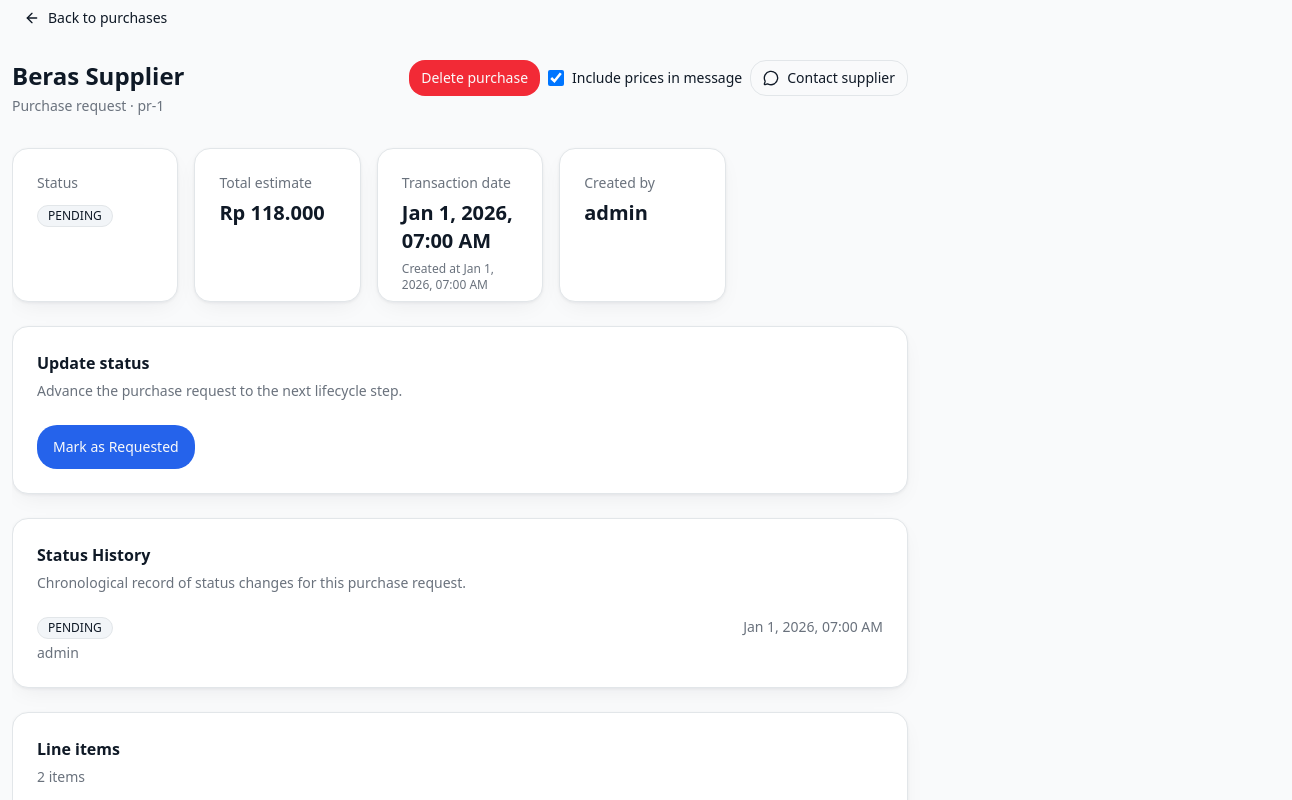
Test: AdminPurchaseDetailContent › shows API validation errors for invalid status transitions
Expected: the heading "Beras Supplier" is shown, [12,60,184,92]
What coordinates should you click on to do the following:
click the button "Mark as Requested"
I would click on:
 (116, 447)
Its box is [37,425,195,469].
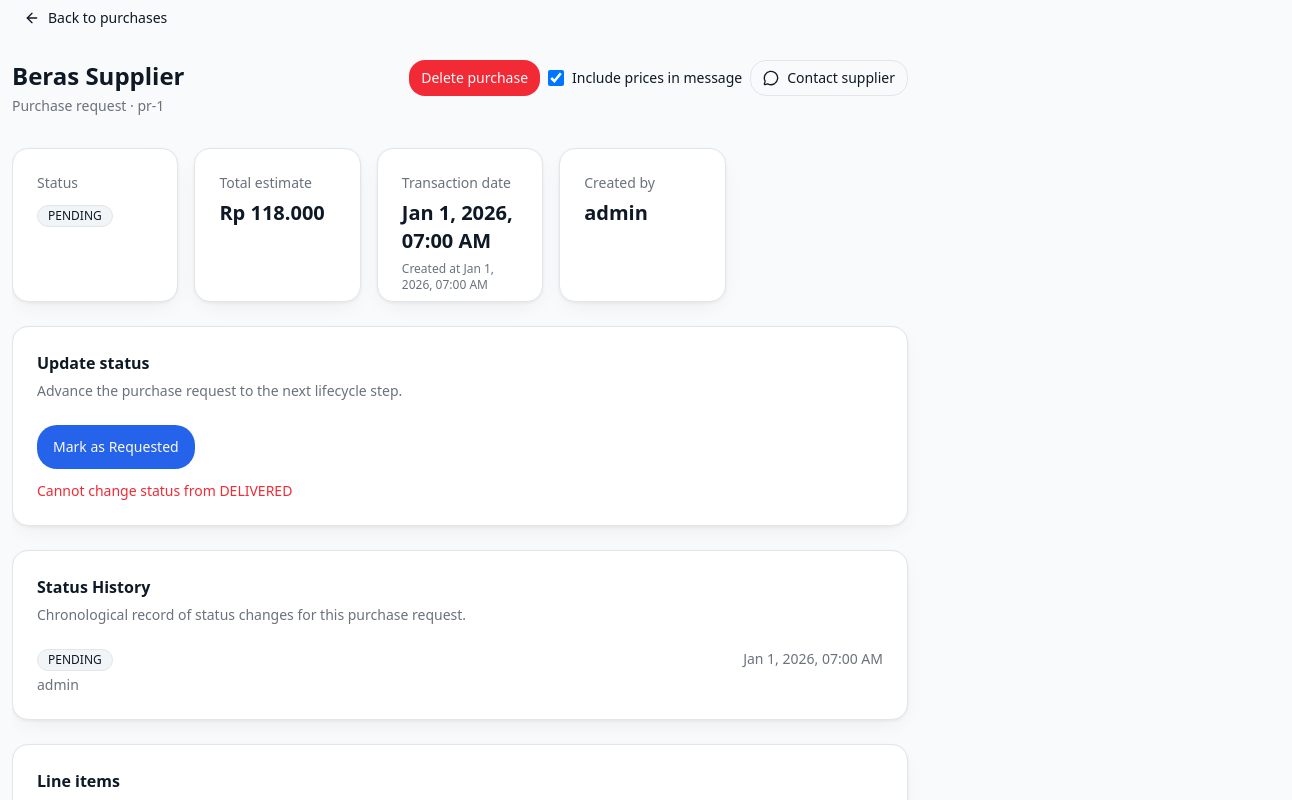
Expected: the text "Cannot change status from DELIVERED" is shown, [37,481,292,500]
